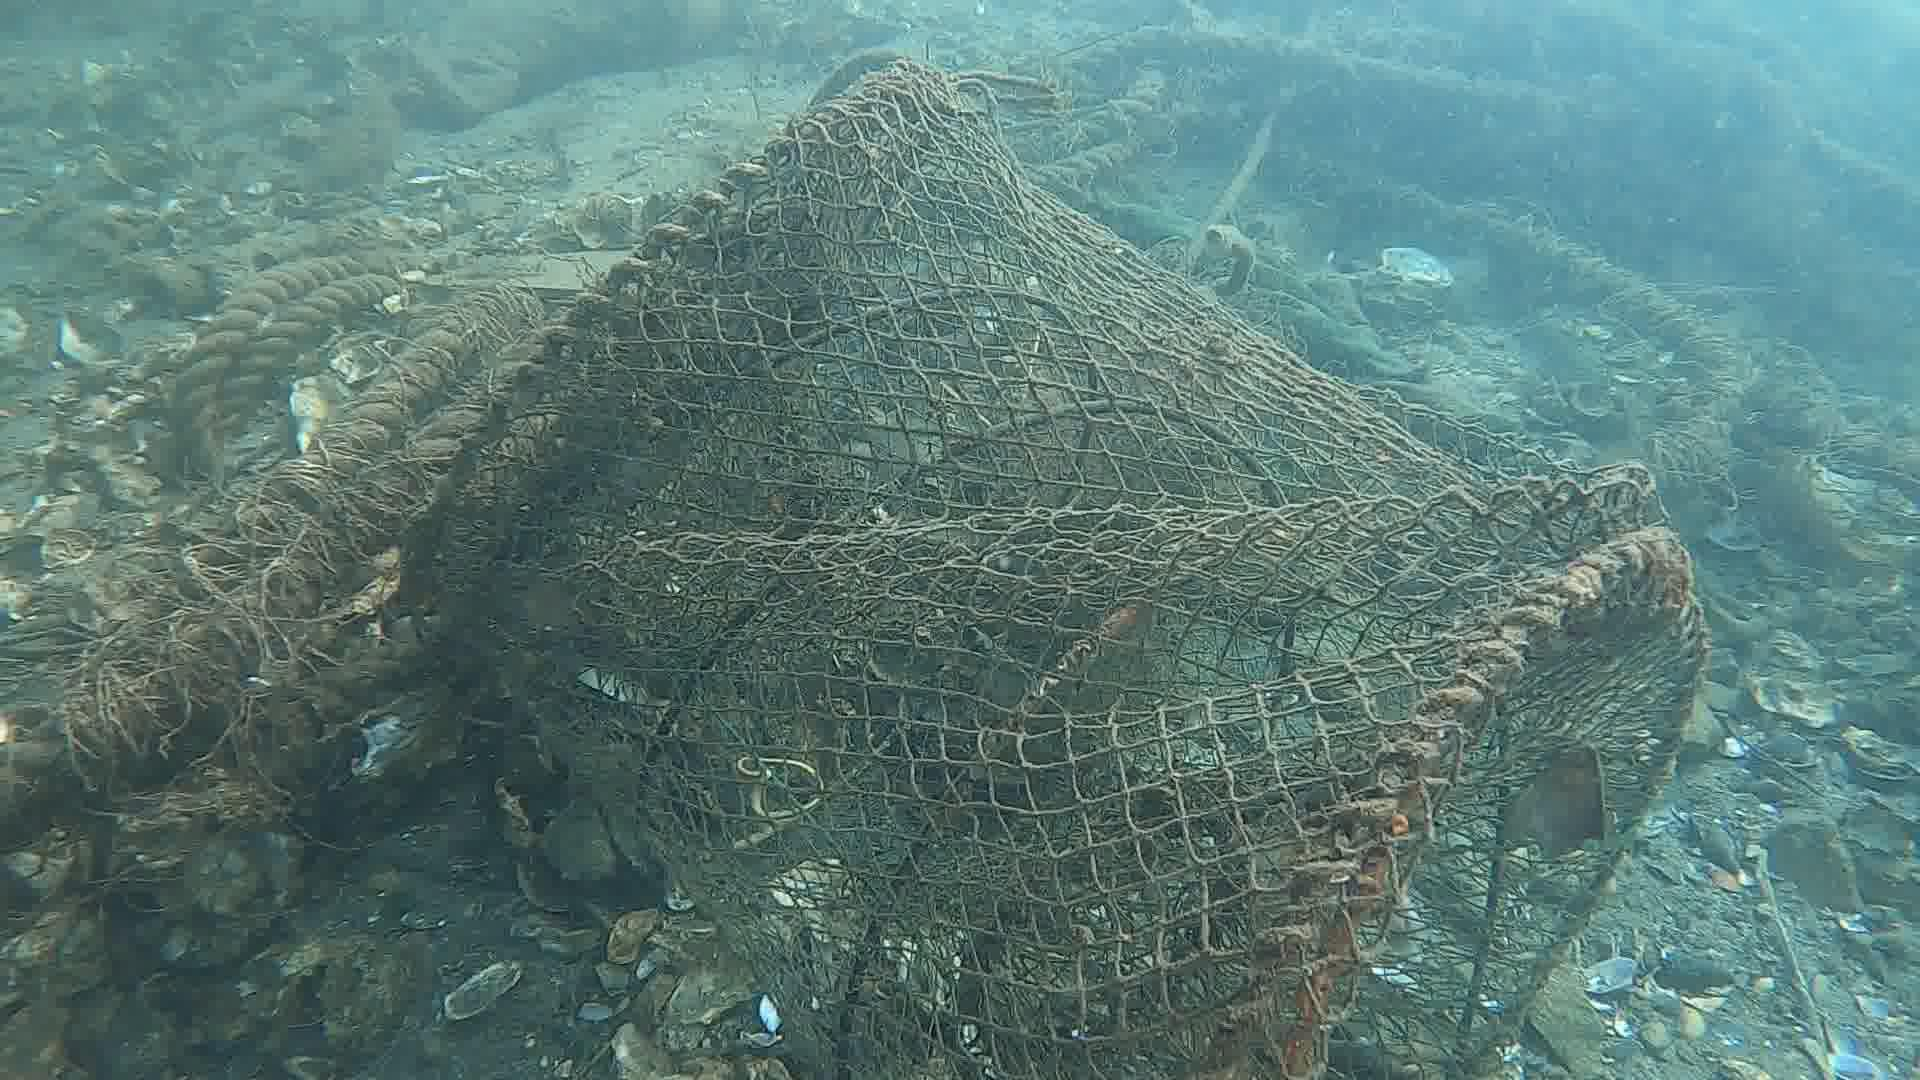bundle of ropes: (173, 253, 396, 463), (313, 328, 545, 468)
rope: (1026, 140, 1130, 186)
spring fish trap: (398, 58, 1708, 1080)
